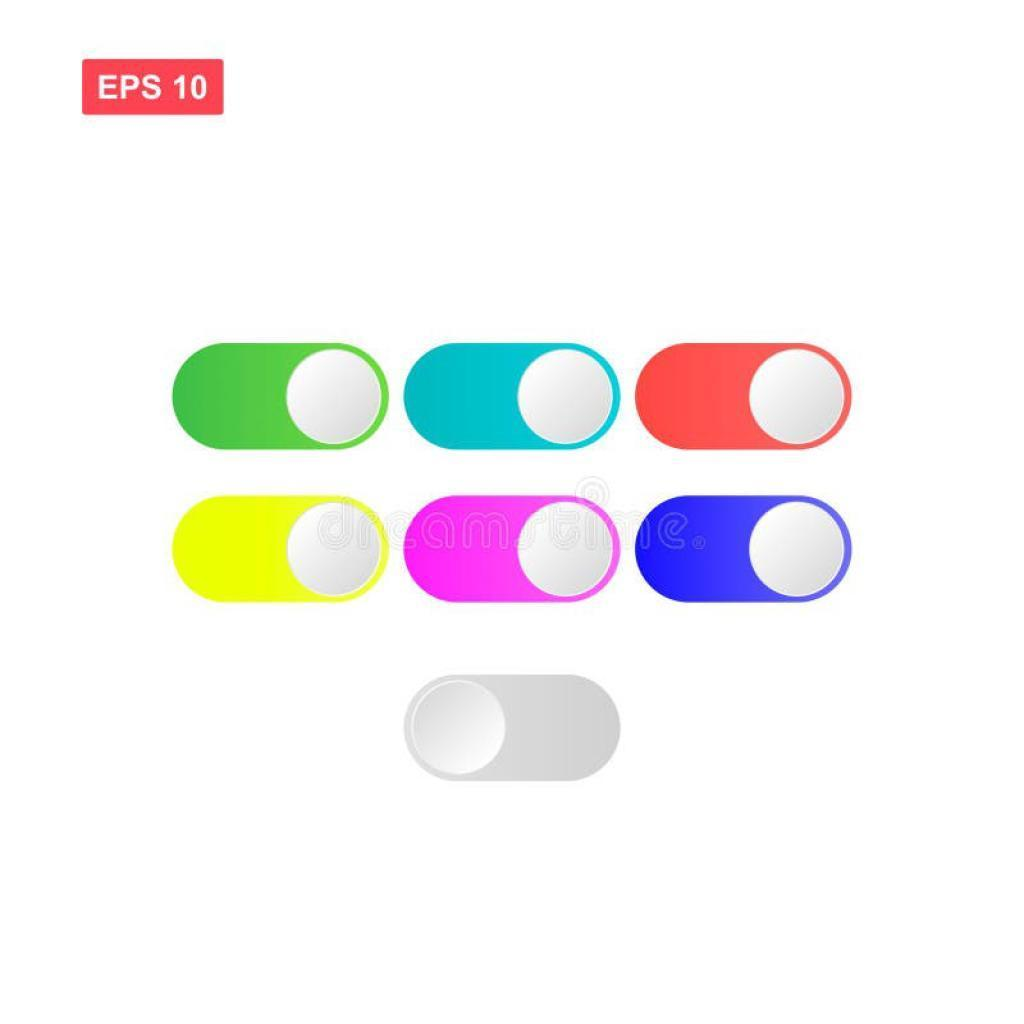switch: (170, 490, 386, 607), (402, 342, 623, 456), (637, 342, 857, 454), (168, 344, 391, 452), (400, 497, 622, 605), (635, 496, 854, 605), (406, 674, 625, 782)
